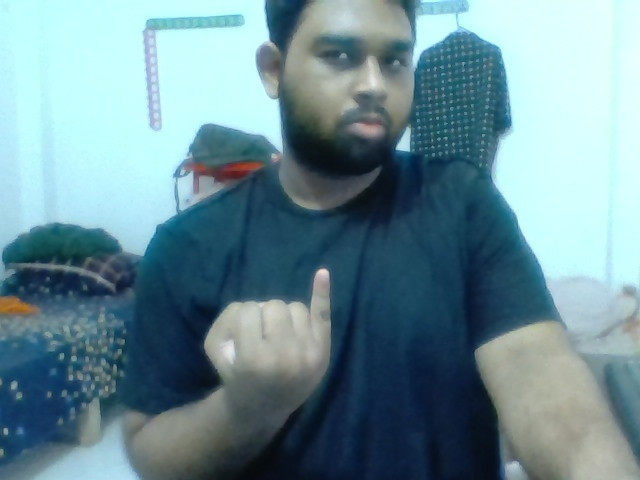I: (194, 259, 343, 416)
